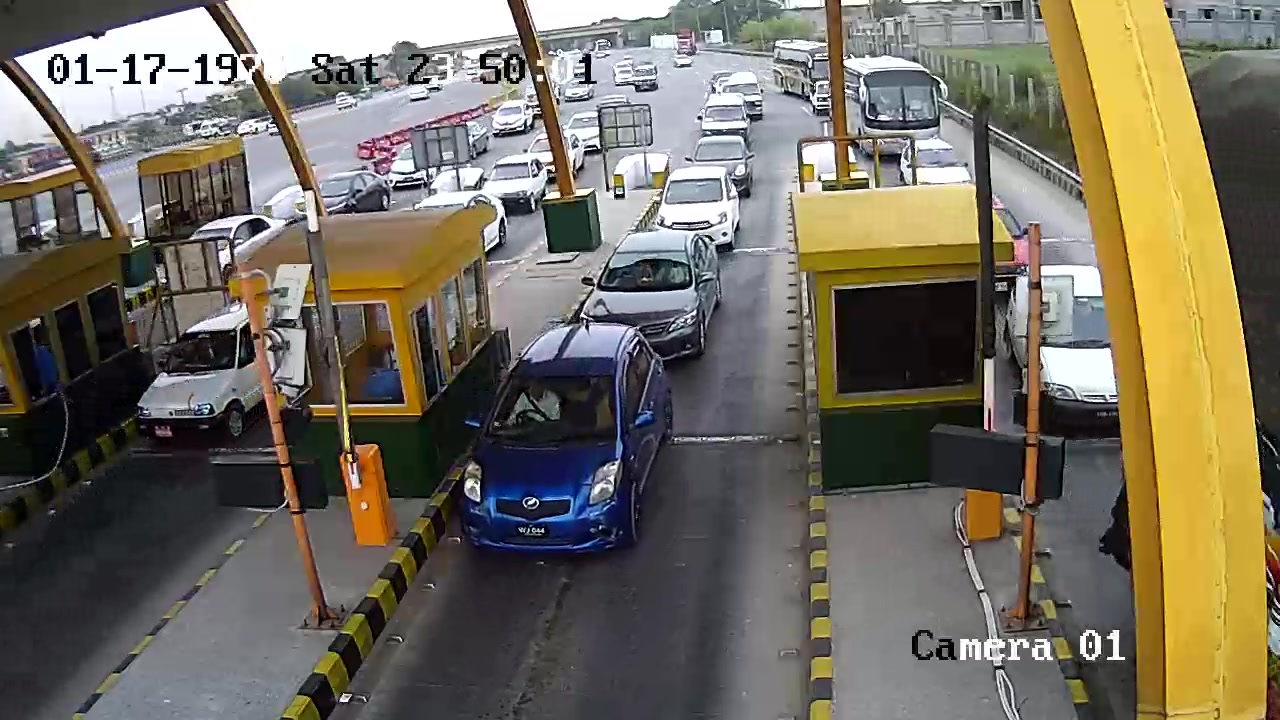F1: (460, 323, 674, 562)
